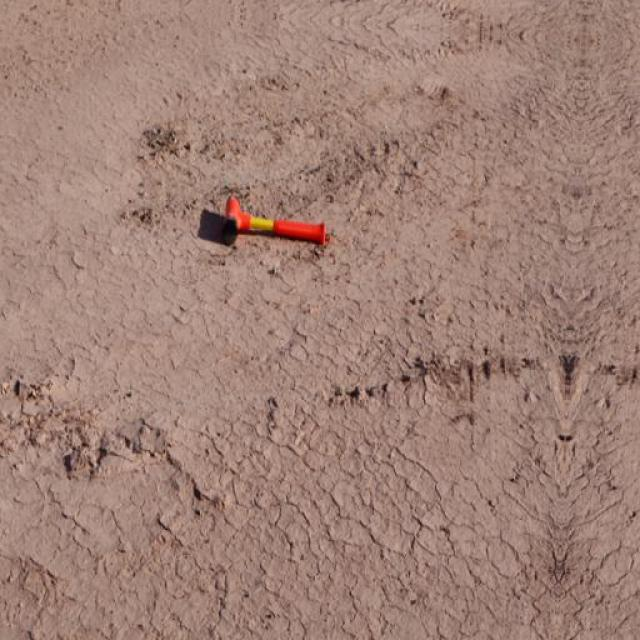mallet: (219, 194, 329, 248)
